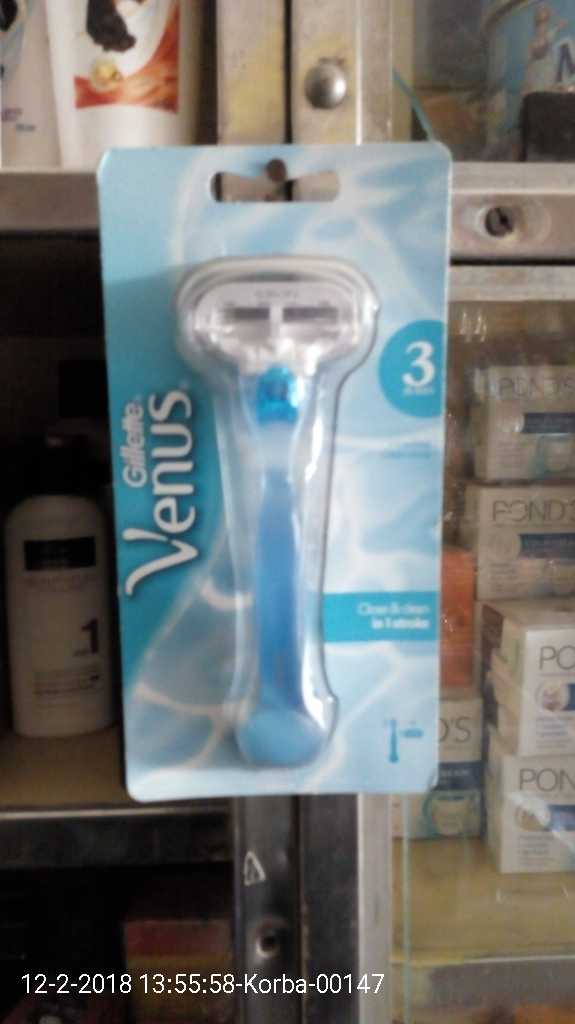venus: (95, 141, 450, 791)
